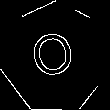O_S: (29, 29, 81, 87)
